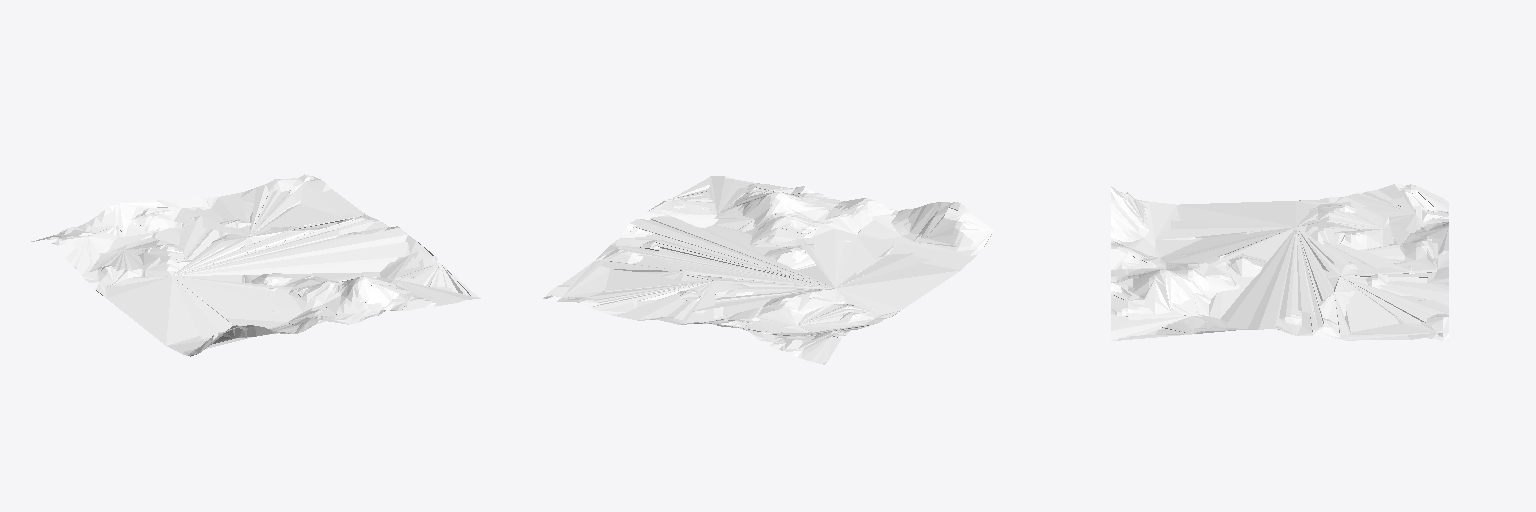
File: terrain.obj
3 views of the same model, side by side, from view 1: azimuth 30°, elevation 25°; view 2: azimuth 150°, elevation 25°; view 3: azimuth 270°, elevation 25° (orthographic).
Parts seen in each view (by area): view 1: C__Users_ari_Desktop_3d_Records_first.001; view 2: C__Users_ari_Desktop_3d_Records_first.001; view 3: C__Users_ari_Desktop_3d_Records_first.001.
Boxes of the visible parts, x1=… form: C__Users_ari_Desktop_3d_Records_first.001: x1=31, y1=174, x2=480, y2=356; C__Users_ari_Desktop_3d_Records_first.001: x1=543, y1=176, x2=993, y2=364; C__Users_ari_Desktop_3d_Records_first.001: x1=1111, y1=184, x2=1448, y2=340.
Bounding box in the file's own units: 607 × 73.11 × 626.